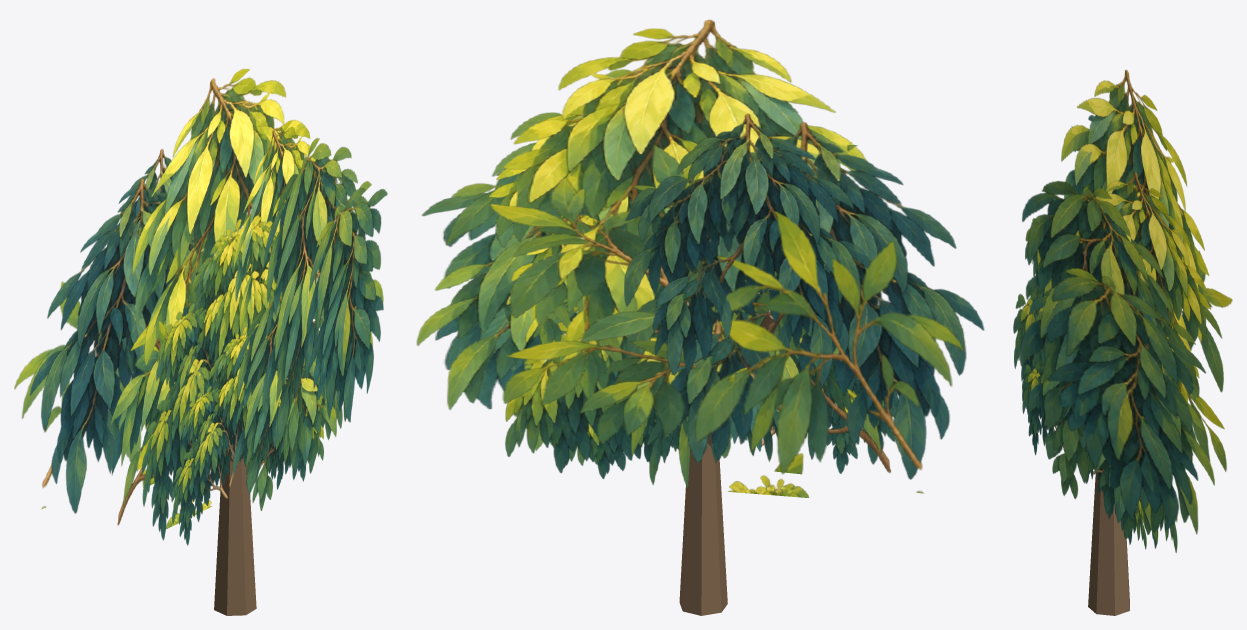
The model's file is TREE_NATIVE_ROUNDED_001_V4_RICH_LOD_CLOSE.glb.
The picture shows the model from 3 angles, left to right: view 1: azimuth 30°, elevation 25°; view 2: azimuth 150°, elevation 25°; view 3: azimuth 270°, elevation 25°; orthographic projection. The views are drawn at different scales.
Parts seen in each view (by area): view 1: GG_NATIVE_RICH_CARD_01, GG_NATIVE_RICH_CARD_00, GG_NATIVE_RICH_CARD_03, GG_NATIVE_RICH_CARD_02, GG_NATIVE_RICH_CARD_05, GG_NATIVE_RICH_CARD_11, GG_NATIVE_RICH_CARD_08, GG_NATIVE_V4_LOCKED_CARCASS_00, GG_NATIVE_RICH_CARD_10, GG_NATIVE_RICH_CARD_07, GG_NATIVE_RICH_CARD_04, GG_NATIVE_RICH_CARD_09 (+1 smaller); view 2: GG_NATIVE_RICH_CARD_00, GG_NATIVE_RICH_CARD_09, GG_NATIVE_RICH_CARD_01, GG_NATIVE_RICH_CARD_04, GG_NATIVE_RICH_CARD_06, GG_NATIVE_RICH_CARD_02, GG_NATIVE_RICH_CARD_03, GG_NATIVE_RICH_CARD_07, GG_NATIVE_V4_LOCKED_CARCASS_00, GG_NATIVE_RICH_CARD_05, GG_NATIVE_RICH_CARD_10, GG_NATIVE_RICH_CARD_11; view 3: GG_NATIVE_RICH_CARD_05, GG_NATIVE_RICH_CARD_02, GG_NATIVE_RICH_CARD_00, GG_NATIVE_RICH_CARD_10, GG_NATIVE_V4_LOCKED_CARCASS_00, GG_NATIVE_RICH_CARD_08, GG_NATIVE_RICH_CARD_06, GG_NATIVE_RICH_CARD_11, GG_NATIVE_RICH_CARD_03.
Boxes of the visible parts, x1,y1,x2,y2 form: GG_NATIVE_RICH_CARD_01: (30,178,208,513); GG_NATIVE_RICH_CARD_00: (132,68,310,470); GG_NATIVE_RICH_CARD_03: (142,186,342,540); GG_NATIVE_RICH_CARD_02: (262,138,383,468); GG_NATIVE_RICH_CARD_05: (306,188,387,422); GG_NATIVE_RICH_CARD_11: (171,323,323,545); GG_NATIVE_RICH_CARD_08: (233,292,336,510); GG_NATIVE_V4_LOCKED_CARCASS_00: (214,443,256,615); GG_NATIVE_RICH_CARD_10: (233,120,315,330); GG_NATIVE_RICH_CARD_07: (110,303,257,529); GG_NATIVE_RICH_CARD_04: (14,281,159,508); GG_NATIVE_RICH_CARD_09: (107,149,194,385); GG_NATIVE_RICH_CARD_00: (503,19,867,412); GG_NATIVE_RICH_CARD_09: (624,113,870,386); GG_NATIVE_RICH_CARD_01: (626,122,984,479); GG_NATIVE_RICH_CARD_04: (695,211,963,493); GG_NATIVE_RICH_CARD_06: (489,145,857,444); GG_NATIVE_RICH_CARD_02: (416,69,632,428); GG_NATIVE_RICH_CARD_03: (505,211,896,473); GG_NATIVE_RICH_CARD_07: (616,308,898,497); GG_NATIVE_V4_LOCKED_CARCASS_00: (679,443,727,615); GG_NATIVE_RICH_CARD_05: (422,169,551,409); GG_NATIVE_RICH_CARD_10: (489,105,660,344); GG_NATIVE_RICH_CARD_11: (563,390,863,478); GG_NATIVE_RICH_CARD_05: (1046,267,1205,530); GG_NATIVE_RICH_CARD_02: (1020,181,1214,534); GG_NATIVE_RICH_CARD_00: (1061,70,1209,402); GG_NATIVE_RICH_CARD_10: (1076,172,1211,402); GG_NATIVE_V4_LOCKED_CARCASS_00: (1088,473,1129,615); GG_NATIVE_RICH_CARD_08: (1028,290,1157,543); GG_NATIVE_RICH_CARD_06: (1071,126,1232,471); GG_NATIVE_RICH_CARD_11: (1022,315,1146,549); GG_NATIVE_RICH_CARD_03: (1013,218,1177,552).
Size of the model in its own units: 37.71 by 44.37 by 16.66.
2 materials, 1 textured.
